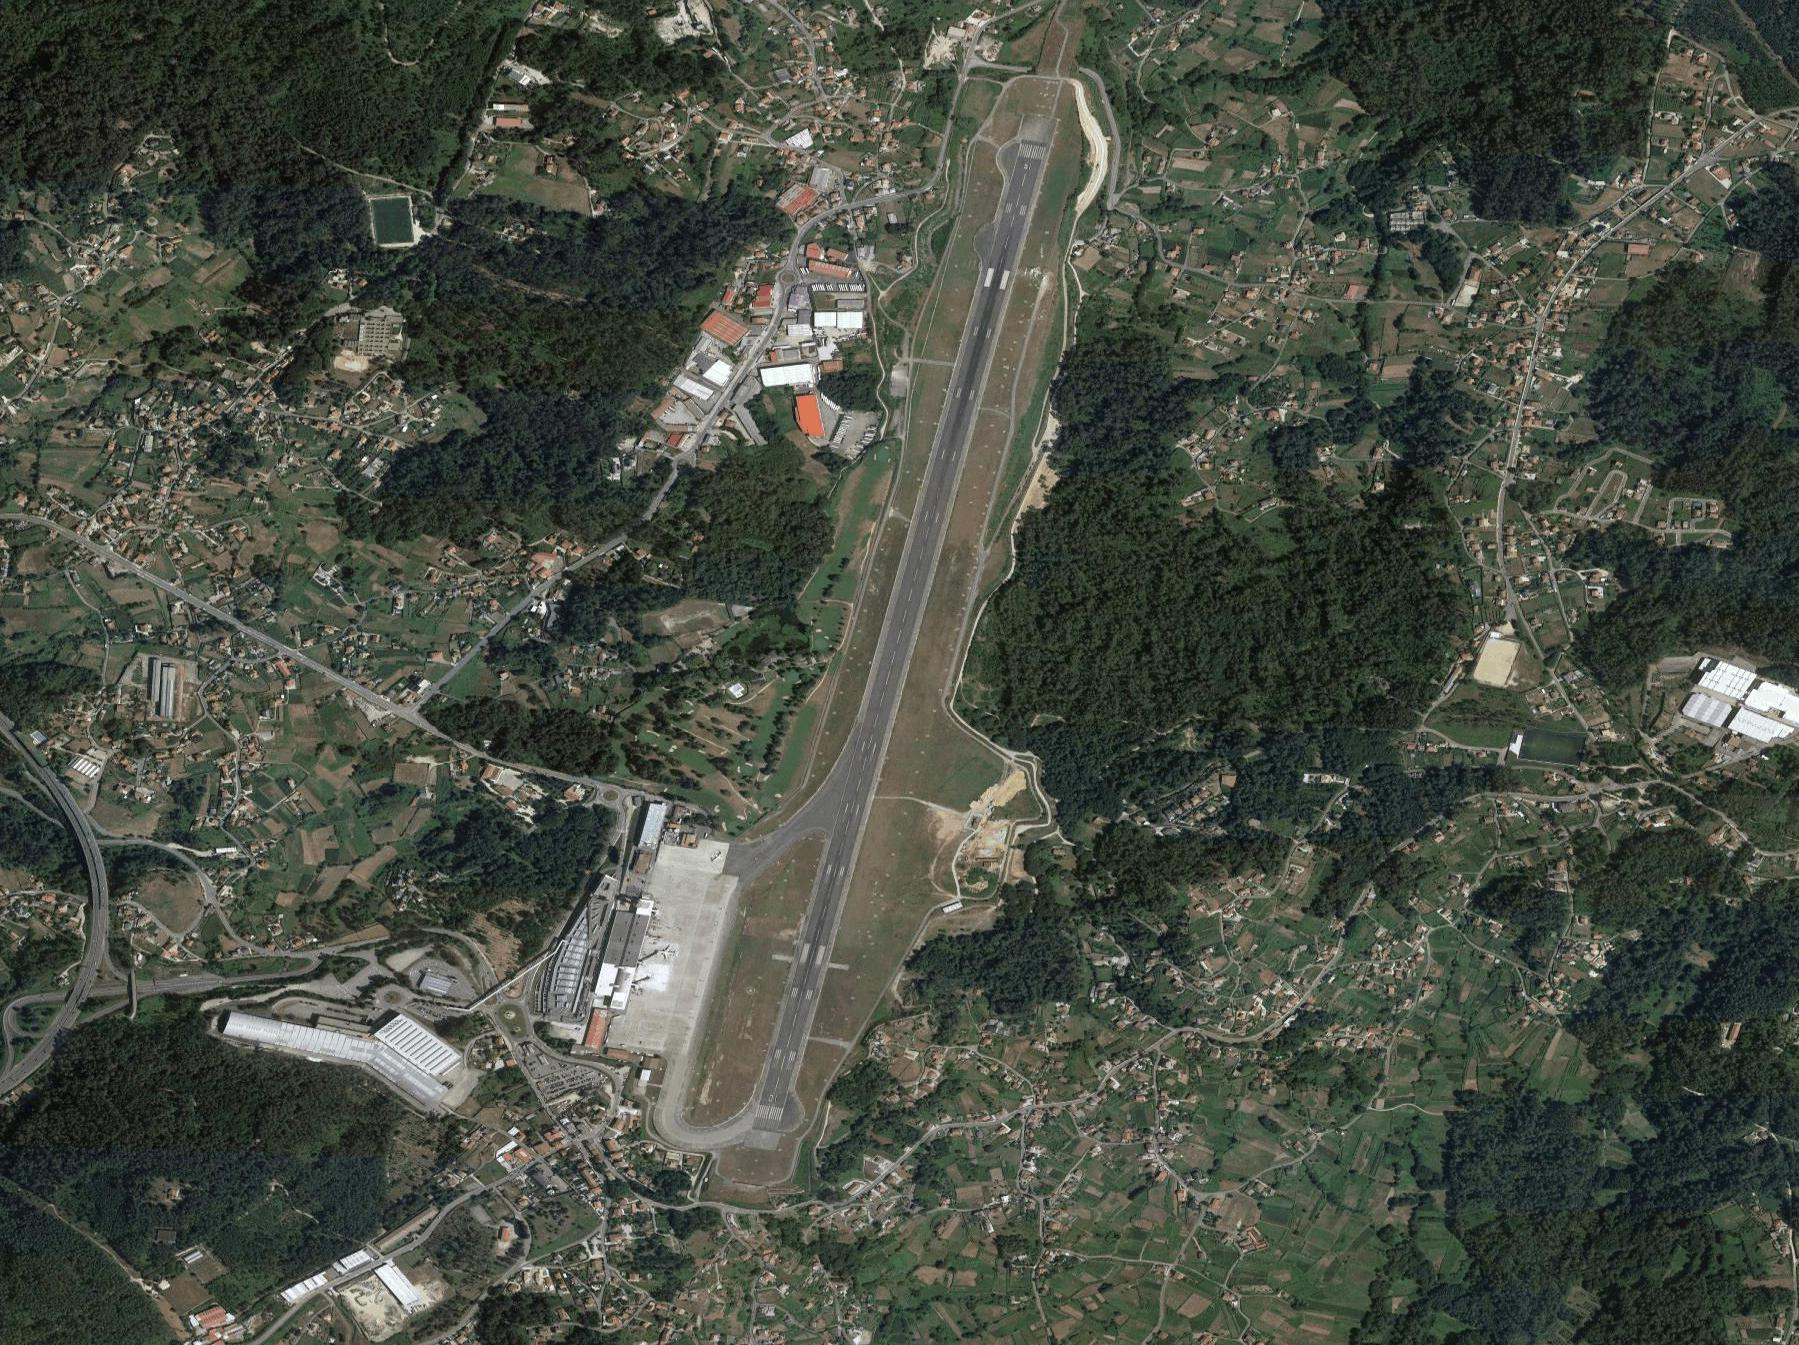airport: (568, 73, 1149, 1191)
motorway: (1, 712, 99, 867), (64, 866, 112, 1027), (1, 1000, 64, 1108)
